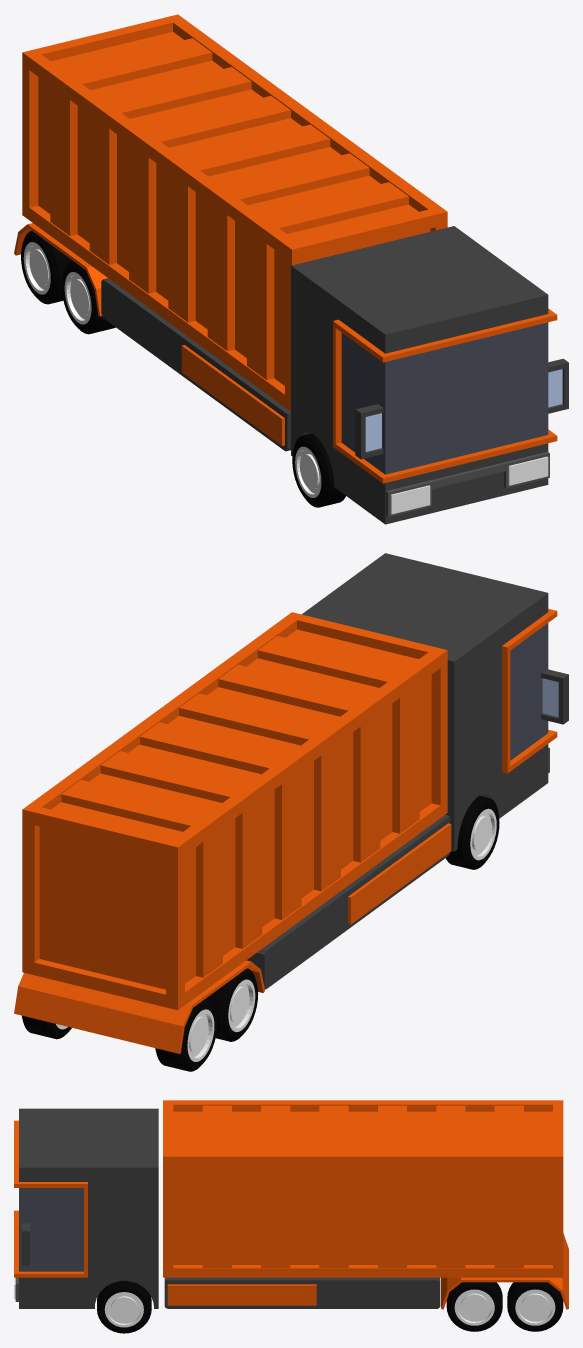
Rendered from Truck_gray.gltf.
3 renders of one model, top to bottom at view 1: azimuth 30°, elevation 25°; view 2: azimuth 150°, elevation 25°; view 3: azimuth 270°, elevation 25°, orthographic. The views are drawn at different scales.
Visible parts, largest first — view 1: Cargo1, Cargo2, TruckHead2, TruckHead6, TruckBody2, TruckHead7, TruckBody5, TruckBody3, TruckBody4, TruckHead3, TruckHead1, TruckHead5 (+2 smaller); view 2: Cargo1, Cargo2, TruckHead2, TruckBody1, TruckBody2, TruckBody5, TruckHead6, TruckBody4, TruckBody3, TruckHead7, TruckHead5; view 3: Cargo1, Cargo2, TruckHead2, TruckBody2, TruckHead6, TruckBody5, TruckBody4, TruckBody3, TruckHead7, TruckBody1, TruckHead5.
Part boxes in pixels (box(x1,y1,x2,y2)): Cargo1: box(22, 14, 447, 411); Cargo2: box(50, 38, 408, 379); TruckHead2: box(291, 226, 548, 524); TruckHead6: box(341, 322, 548, 474); TruckBody2: box(101, 278, 290, 451); TruckHead7: box(333, 308, 557, 483); TruckBody5: box(21, 231, 345, 507); TruckBody3: box(181, 345, 284, 445); TruckBody4: box(23, 242, 321, 497); TruckHead3: box(386, 451, 549, 516); TruckHead1: box(390, 456, 548, 514); TruckHead5: box(355, 358, 568, 459); Cargo1: box(22, 612, 447, 1010); Cargo2: box(61, 636, 419, 977); TruckHead2: box(302, 553, 548, 851); TruckBody1: box(14, 960, 264, 1053); TruckBody2: box(246, 815, 450, 989); TruckBody5: box(22, 795, 499, 1071); TruckHead6: box(510, 623, 548, 760); TruckBody4: box(56, 808, 496, 1061); TruckBody3: box(348, 823, 451, 924); TruckHead7: box(502, 609, 557, 773); TruckHead5: box(541, 669, 568, 724); Cargo1: box(163, 1100, 563, 1277); Cargo2: box(202, 1105, 523, 1267); TruckHead2: box(19, 1108, 158, 1308); TruckBody2: box(164, 1277, 440, 1308); TruckHead6: box(19, 1188, 83, 1271); TruckBody5: box(97, 1280, 563, 1333); TruckBody4: box(104, 1289, 555, 1327); TruckBody3: box(167, 1284, 316, 1305); TruckHead7: box(14, 1120, 87, 1277); TruckBody1: box(441, 1233, 568, 1309); TruckHead5: box(21, 1223, 29, 1265).
Size of the model in its own units: 8.76 by 9.47 by 27.26.
